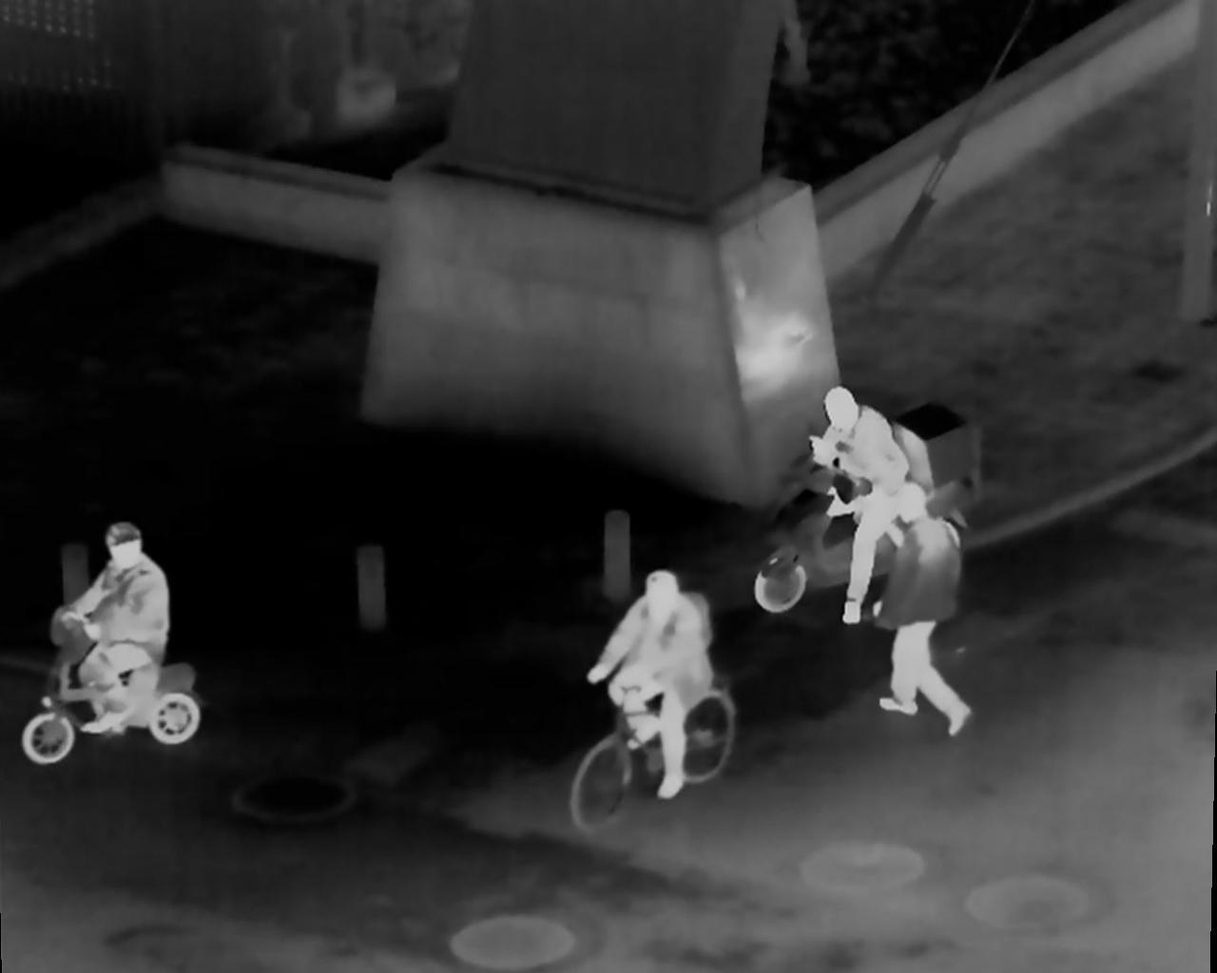person: (586, 575, 716, 793), (817, 386, 911, 634), (887, 487, 980, 731), (68, 525, 167, 733)
